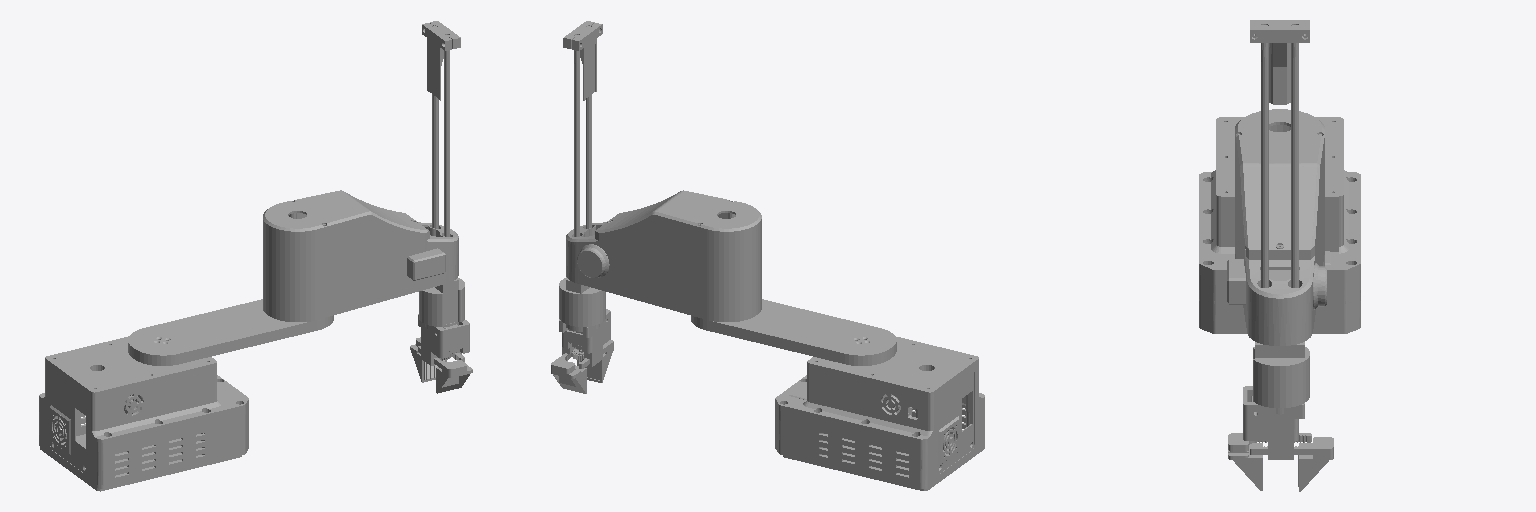
URDF robot description (scara_arm):
<?xml version="1.0" ?>
<!-- =================================================================================== -->
<!-- |    This document was autogenerated by xacro from [local-path]/Desktop/rigbetel-labs-ws/src/scara_arm/scara_arm_description/urdf/scara_arm_two_finger_gripper.xacro | -->
<!-- |    EDITING THIS FILE BY HAND IS NOT RECOMMENDED                                 | -->
<!-- =================================================================================== -->
<robot name="scara_arm">
    <material name="silver">
        <color rgba="0.700 0.700 0.700 1.000" />
    </material>
    <transmission name="link_01_joint_tran">
        <type>transmission_interface/SimpleTransmission</type>
        <joint name="link_01_joint">
            <hardwareInterface>hardware_interface/PositionJointInterface</hardwareInterface>
        </joint>
        <actuator name="link_01_joint_actr">
            <hardwareInterface>hardware_interface/PositionJointInterface</hardwareInterface>
            <mechanicalReduction>1</mechanicalReduction>
        </actuator>
    </transmission>
    <transmission name="link_02_joint_tran">
        <type>transmission_interface/SimpleTransmission</type>
        <joint name="link_02_joint">
            <hardwareInterface>hardware_interface/PositionJointInterface</hardwareInterface>
        </joint>
        <actuator name="link_02_joint_actr">
            <hardwareInterface>hardware_interface/PositionJointInterface</hardwareInterface>
            <mechanicalReduction>1</mechanicalReduction>
        </actuator>
    </transmission>
    <transmission name="link_03_joint_tran">
        <type>transmission_interface/SimpleTransmission</type>
        <joint name="link_03_joint">
            <hardwareInterface>hardware_interface/PositionJointInterface</hardwareInterface>
        </joint>
        <actuator name="link_03_joint_actr">
            <hardwareInterface>hardware_interface/PositionJointInterface</hardwareInterface>
            <mechanicalReduction>1</mechanicalReduction>
        </actuator>
    </transmission>
    <transmission name="link_04_joint_tran">
        <type>transmission_interface/SimpleTransmission</type>
        <joint name="link_04_joint">
            <hardwareInterface>hardware_interface/PositionJointInterface</hardwareInterface>
        </joint>
        <actuator name="link_04_joint_actr">
            <hardwareInterface>hardware_interface/PositionJointInterface</hardwareInterface>
            <mechanicalReduction>1</mechanicalReduction>
        </actuator>
    </transmission>
    <gazebo>
        <plugin filename="libgazebo_ros_control.so" name="control" />
        <plugin name="gazebo_ros_control">
            <robotNamespace>/</robotNamespace>
        </plugin>
    </gazebo>
    <gazebo reference="base_link">
        <material>Gazebo/Silver</material>
        <mu1>0.2</mu1>
        <mu2>0.2</mu2>
        <selfCollide>true</selfCollide>
        <gravity>true</gravity>
    </gazebo>
    <gazebo reference="link_01_1">
        <material>Gazebo/Silver</material>
        <mu1>0.2</mu1>
        <mu2>0.2</mu2>
        <selfCollide>true</selfCollide>
    </gazebo>
    <gazebo reference="link_02_1">
        <material>Gazebo/Silver</material>
        <mu1>0.2</mu1>
        <mu2>0.2</mu2>
        <selfCollide>true</selfCollide>
    </gazebo>
    <gazebo reference="link_03_1">
        <material>Gazebo/Silver</material>
        <mu1>0.2</mu1>
        <mu2>0.2</mu2>
        <selfCollide>true</selfCollide>
    </gazebo>
    <gazebo reference="link_04_1">
        <material>Gazebo/Silver</material>
        <mu1>0.2</mu1>
        <mu2>0.2</mu2>
        <selfCollide>true</selfCollide>
    </gazebo>
    <link name="world" />
    <joint name="world_joint" type="fixed">
        <origin rpy="0 0 0" xyz="0 0 0.25" />
        <parent link="world" />
        <child link="base_link" />
    </joint>
    <link name="base_link">
        <inertial>
            <origin rpy="0 0 0" xyz="-0.11835854812758473 -0.000276888564792295 0.07546314461319549" />
            <mass value="9.76941358714018" />
            <inertia ixx="0.040462" ixy="0.000229" ixz="0.003341" iyy="0.058748" iyz="3e-06" izz="0.065063" />
        </inertial>
        <visual>
            <origin rpy="0 0 0" xyz="0 0 0" />
            <geometry>
                <mesh filename="package://scara_arm_description/meshes/base_link.stl" scale="0.001 0.001 0.001" />
            </geometry>
            <material name="silver" />
        </visual>
        <collision>
            <origin rpy="0 0 0" xyz="0 0 0" />
            <geometry>
                <mesh filename="package://scara_arm_description/meshes/base_link.stl" scale="0.001 0.001 0.001" />
            </geometry>
        </collision>
    </link>
    <link name="link_01_1">
        <inertial>
            <origin rpy="0 0 0" xyz="0.08670878750712241 1.200325802990558e-08 0.006656155794027313" />
            <mass value="1.9187641006386469" />
            <inertia ixx="0.001419" ixy="0.0" ixz="-0.000439" iyy="0.016505" iyz="0.0" izz="0.017605" />
        </inertial>
        <visual>
            <origin rpy="0 0 0" xyz="0.089 -0.0 -0.134" />
            <geometry>
                <mesh filename="package://scara_arm_description/meshes/link_01_1.stl" scale="0.001 0.001 0.001" />
            </geometry>
            <material name="silver" />
        </visual>
        <collision>
            <origin rpy="0 0 0" xyz="0.089 -0.0 -0.134" />
            <geometry>
                <mesh filename="package://scara_arm_description/meshes/link_01_1.stl" scale="0.001 0.001 0.001" />
            </geometry>
        </collision>
    </link>
    <link name="link_02_1">
        <inertial>
            <origin rpy="0 0 0" xyz="0.08442650829809627 -0.00019960790751640374 0.04670690112194936" />
            <mass value="4.429642089527778" />
            <inertia ixx="0.010022" ixy="0.000108" ixz="0.003844" iyy="0.037429" iyz="-1.5e-05" izz="0.034386" />
        </inertial>
        <visual>
            <origin rpy="0 0 0" xyz="-0.109 -0.0 -0.150161" />
            <geometry>
                <mesh filename="package://scara_arm_description/meshes/link_02_1.stl" scale="0.001 0.001 0.001" />
            </geometry>
            <material name="silver" />
        </visual>
        <collision>
            <origin rpy="0 0 0" xyz="-0.109 -0.0 -0.150161" />
            <geometry>
                <mesh filename="package://scara_arm_description/meshes/link_02_1.stl" scale="0.001 0.001 0.001" />
            </geometry>
        </collision>
    </link>
    <link name="link_03_1">
        <inertial>
            <origin rpy="0 0 0" xyz="7.948171955463046e-05 0.015947235193624242 0.007476972757145983" />
            <mass value="1.573240852398478" />
            <inertia ixx="0.031125" ixy="-1e-06" ixz="0.000175" iyy="0.031053" iyz="0.000143" izz="0.000561" />
        </inertial>
        <visual>
            <origin rpy="0 0 0" xyz="-0.321 0.014923 -0.190844" />
            <geometry>
                <mesh filename="package://scara_arm_description/meshes/link_03_1.stl" scale="0.001 0.001 0.001" />
            </geometry>
            <material name="silver" />
        </visual>
        <collision>
            <origin rpy="0 0 0" xyz="-0.321 0.014923 -0.190844" />
            <geometry>
                <mesh filename="package://scara_arm_description/meshes/link_03_1.stl" scale="0.001 0.001 0.001" />
            </geometry>
        </collision>
    </link>
    <link name="link_04_1">
        <inertial>
            <origin rpy="0 0 0" xyz="-6.87288058324742e-05 -3.7241785767553145e-11 -0.004999674402307544" />
            <mass value="0.1300483969226679" />
            <inertia ixx="1.8e-05" ixy="0.0" ixz="0.0" iyy="1.8e-05" iyz="0.0" izz="3.4e-05" />
        </inertial>
        <visual>
            <origin rpy="0 0 0" xyz="-0.3217 0.0 -0.087161" />
            <geometry>
                <mesh filename="package://scara_arm_description/meshes/link_04_1.stl" scale="0.001 0.001 0.001" />
            </geometry>
            <material name="silver" />
        </visual>
        <collision>
            <origin rpy="0 0 0" xyz="-0.3217 0.0 -0.087161" />
            <geometry>
                <mesh filename="package://scara_arm_description/meshes/link_04_1.stl" scale="0.001 0.001 0.001" />
            </geometry>
        </collision>
    </link>
    <joint name="link_01_joint" type="revolute">
        <origin rpy="0 0 0" xyz="-0.089 0.0 0.134" />
        <parent link="base_link" />
        <child link="link_01_1" />
        <axis xyz="0.0 -0.0 1.0" />
        <limit effort="100" lower="-1.43117" upper="1.71042" velocity="100" />
    </joint>
    <joint name="link_02_joint" type="revolute">
        <origin rpy="0 0 0" xyz="0.198 0.0 0.016161" />
        <parent link="link_01_1" />
        <child link="link_02_1" />
        <axis xyz="0.0 0.0 1.0" />
        <limit effort="100" lower="-1.71042" upper="1.43117" velocity="100" />
    </joint>
    <joint name="link_03_joint" type="prismatic">
        <origin rpy="0 0 0" xyz="0.212 -0.014923 0.040683" />
        <parent link="link_02_1" />
        <child link="link_03_1" />
        <axis xyz="0.0 0.0 1.0" />
        <limit effort="100" lower="-0.23" upper="0.0" velocity="100" />
    </joint>
    <joint name="link_04_joint" type="revolute">
        <origin rpy="0 0 0" xyz="0.0007 0.014923 -0.103683" />
        <parent link="link_03_1" />
        <child link="link_04_1" />
        <axis xyz="0.0 0.0 -1.0" />
        <limit effort="100" lower="-1.570796" upper="1.570796" velocity="100" />
    </joint>
    <transmission name="gripper_joint_tran">
        <type>transmission_interface/SimpleTransmission</type>
        <joint name="gripper_joint">
            <hardwareInterface>hardware_interface/EffortJointInterface</hardwareInterface>
        </joint>
        <actuator name="gripper_joint_actr">
            <hardwareInterface>hardware_interface/EffortJointInterface</hardwareInterface>
            <mechanicalReduction>1</mechanicalReduction>
        </actuator>
    </transmission>
    <transmission name="right_gripper_joint_tran">
        <type>transmission_interface/SimpleTransmission</type>
        <joint name="right_gripper_joint">
            <hardwareInterface>hardware_interface/EffortJointInterface</hardwareInterface>
        </joint>
        <actuator name="right_gripper_joint_actr">
            <hardwareInterface>hardware_interface/EffortJointInterface</hardwareInterface>
            <mechanicalReduction>1</mechanicalReduction>
        </actuator>
    </transmission>
    <transmission name="left_gripper_joint_tran">
        <type>transmission_interface/SimpleTransmission</type>
        <joint name="left_gripper_joint">
            <hardwareInterface>hardware_interface/EffortJointInterface</hardwareInterface>
        </joint>
        <actuator name="left_gripper_joint_actr">
            <hardwareInterface>hardware_interface/EffortJointInterface</hardwareInterface>
            <mechanicalReduction>1</mechanicalReduction>
        </actuator>
    </transmission>
    <gazebo>
        <plugin filename="libgazebo_ros_control.so" name="control" />
    </gazebo>
    <gazebo reference="gripper_base_link">
        <material>Gazebo/Silver</material>
        <mu1>0.2</mu1>
        <mu2>0.2</mu2>
        <selfCollide>true</selfCollide>
        <gravity>true</gravity>
    </gazebo>
    <gazebo reference="pinion_1">
        <material>Gazebo/Silver</material>
        <mu1>0.2</mu1>
        <mu2>0.2</mu2>
        <selfCollide>true</selfCollide>
    </gazebo>
    <gazebo reference="gripper_right_1">
        <material>Gazebo/Silver</material>
        <mu1>0.2</mu1>
        <mu2>0.2</mu2>
        <selfCollide>true</selfCollide>
    </gazebo>
    <gazebo reference="gripper_left_1">
        <material>Gazebo/Silver</material>
        <mu1>0.2</mu1>
        <mu2>0.2</mu2>
        <selfCollide>true</selfCollide>
    </gazebo>
    <link name="gripper_base_link">
        <inertial>
            <origin rpy="0 0 0" xyz="0.023843975149766813 -0.007551602066560885 -1.7803166319307262e-07" />
            <mass value="0.7371676511848216" />
            <inertia ixx="0.000313" ixy="-1.3e-05" ixz="0.0" iyy="0.000272" iyz="0.0" izz="0.000299" />
        </inertial>
        <visual>
            <origin rpy="0 0 0" xyz="0 0 0" />
            <geometry>
                <mesh filename="package://two_finger_gripper_description/meshes/gripper_base_link.stl" scale="0.001 0.001 0.001" />
            </geometry>
            <material name="silver" />
        </visual>
        <collision>
            <origin rpy="0 0 0" xyz="0 0 0" />
            <geometry>
                <mesh filename="package://two_finger_gripper_description/meshes/gripper_base_link.stl" scale="0.001 0.001 0.001" />
            </geometry>
        </collision>
    </link>
    <link name="pinion_1">
        <inertial>
            <origin rpy="0 0 0" xyz="0.0034043394457755963 1.3778876043618604e-12 -1.2631614722542942e-12" />
            <mass value="0.020624177027043226" />
            <inertia ixx="2e-06" ixy="-0.0" ixz="0.0" iyy="1e-06" iyz="-0.0" izz="1e-06" />
        </inertial>
        <visual>
            <origin rpy="0 0 0" xyz="-0.0485 -0.001 0.0" />
            <geometry>
                <mesh filename="package://two_finger_gripper_description/meshes/pinion_1.stl" scale="0.001 0.001 0.001" />
            </geometry>
            <material name="silver" />
        </visual>
        <collision>
            <origin rpy="0 0 0" xyz="-0.0485 -0.001 0.0" />
            <geometry>
                <mesh filename="package://two_finger_gripper_description/meshes/pinion_1.stl" scale="0.001 0.001 0.001" />
            </geometry>
        </collision>
    </link>
    <link name="gripper_right_1">
        <inertial>
            <origin rpy="0 0 0" xyz="0.010859809536370418 -0.0037061649756109875 -0.016631094134670964" />
            <mass value="0.19983948074258262" />
            <inertia ixx="6.3e-05" ixy="6e-06" ixz="7e-06" iyy="5.4e-05" iyz="8e-06" izz="6.8e-05" />
        </inertial>
        <visual>
            <origin rpy="0 0 0" xyz="-0.0567 -0.014 -0.0182" />
            <geometry>
                <mesh filename="package://two_finger_gripper_description/meshes/gripper_right_1.stl" scale="0.001 0.001 0.001" />
            </geometry>
            <material name="silver" />
        </visual>
        <collision>
            <origin rpy="0 0 0" xyz="-0.0567 -0.014 -0.0182" />
            <geometry>
                <mesh filename="package://two_finger_gripper_description/meshes/gripper_right_1.stl" scale="0.001 0.001 0.001" />
            </geometry>
        </collision>
    </link>
    <link name="gripper_left_1">
        <inertial>
            <origin rpy="0 0 0" xyz="0.010257810630306105 0.003203941855784714 0.016553712338734785" />
            <mass value="0.18914730605530125" />
            <inertia ixx="6.1e-05" ixy="-4e-06" ixz="-6e-06" iyy="5.1e-05" iyz="8e-06" izz="6.6e-05" />
        </inertial>
        <visual>
            <origin rpy="0 0 0" xyz="-0.0567 0.012 0.0182" />
            <geometry>
                <mesh filename="package://two_finger_gripper_description/meshes/gripper_left_1.stl" scale="0.001 0.001 0.001" />
            </geometry>
            <material name="silver" />
        </visual>
        <collision>
            <origin rpy="0 0 0" xyz="-0.0567 0.012 0.0182" />
            <geometry>
                <mesh filename="package://two_finger_gripper_description/meshes/gripper_left_1.stl" scale="0.001 0.001 0.001" />
            </geometry>
        </collision>
    </link>
    <joint name="gripper_joint" type="revolute">
        <origin rpy="0 0 0" xyz="0.0485 0.001 0.0" />
        <parent link="gripper_base_link" />
        <child link="pinion_1" />
        <axis xyz="1.0 -0.0 -0.0" />
        <limit effort="100" lower="0.0" upper="3.141593" velocity="100" />
    </joint>
    <joint name="right_gripper_joint" type="prismatic">
        <origin rpy="0 0 0" xyz="0.0567 0.014 0.0182" />
        <parent link="gripper_base_link" />
        <child link="gripper_right_1" />
        <axis xyz="0.0 1.0 0.0" />
        <limit effort="100" lower="0.001" upper="0.035" velocity="100" />
    </joint>
    <joint name="left_gripper_joint" type="prismatic">
        <origin rpy="0 0 0" xyz="0.0567 -0.012 -0.0182" />
        <parent link="gripper_base_link" />
        <child link="gripper_left_1" />
        <axis xyz="0.0 1.0 0.0" />
        <limit effort="100" lower="-0.035" upper="-0.001" velocity="100" />
    </joint>
    <joint name="gripper_attach" type="fixed">
        <origin rpy="0 1.5708 0" xyz="0 0 0" />
        <parent link="link_04_1" />
        <child link="gripper_base_link" />
    </joint>
</robot>

--- Facts derived from the render (not from the file) ---
Views: 3 orthographic renders of the robot side by side, from view 1: azimuth 30°, elevation 25°; view 2: azimuth 150°, elevation 25°; view 3: azimuth 270°, elevation 25°.
Robot: scara_arm — 10 links, 9 joints (4 revolute, 3 prismatic, 2 fixed); root link world; default pose: all joints at 0 but 2 set to mid-range because 0 is outside their limits (right_gripper_joint = 0.018, left_gripper_joint = -0.018).
Visible links, largest first — view 1: base_link, link_02_1, link_01_1, link_03_1, gripper_base_link, gripper_left_1, gripper_right_1; view 2: base_link, link_02_1, link_01_1, link_03_1, gripper_base_link, gripper_right_1, gripper_left_1; view 3: link_02_1, base_link, link_03_1, gripper_base_link, gripper_right_1, gripper_left_1.
Link boxes in pixels (x1,y1,x2,y2): base_link: (39, 336, 248, 491); link_02_1: (263, 190, 458, 321); link_01_1: (128, 299, 333, 365); link_03_1: (419, 21, 464, 326); gripper_base_link: (418, 314, 469, 365); gripper_left_1: (418, 346, 472, 393); gripper_right_1: (410, 337, 464, 382); base_link: (775, 337, 984, 490); link_02_1: (566, 190, 761, 321); link_01_1: (691, 299, 896, 365); link_03_1: (559, 21, 605, 326); gripper_base_link: (559, 309, 610, 366); gripper_right_1: (551, 353, 586, 393); gripper_left_1: (577, 340, 613, 382); link_02_1: (1227, 109, 1326, 345); base_link: (1199, 117, 1360, 333); link_03_1: (1250, 20, 1309, 407); gripper_base_link: (1243, 386, 1304, 459); gripper_right_1: (1250, 437, 1333, 491); gripper_left_1: (1228, 433, 1311, 490).
Bounding box of the posed robot: 0.5839 × 0.16 × 0.5002 m (x, y, z).
Meshes: 9 distinct files referenced, 9 mesh visuals loaded (9 binary STL).